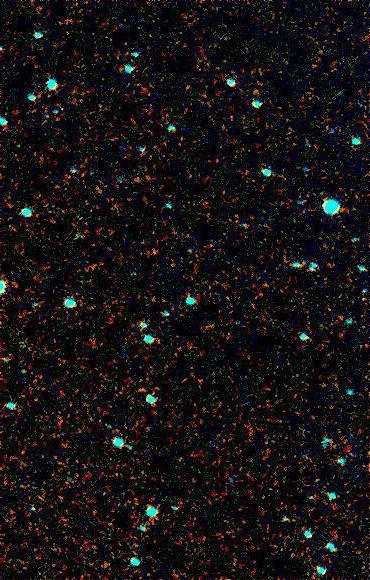star: (139, 236, 169, 266)
